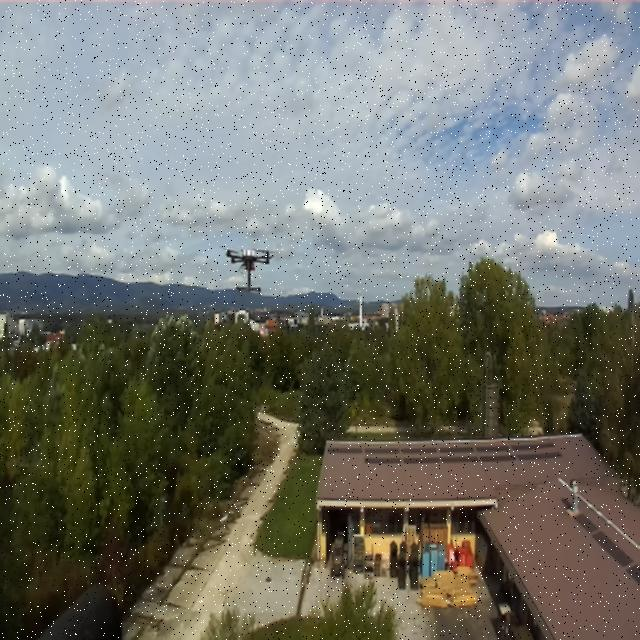UAV: (215, 240, 283, 290)
